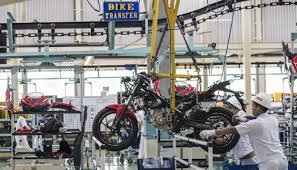motor: (109, 76, 238, 148)
